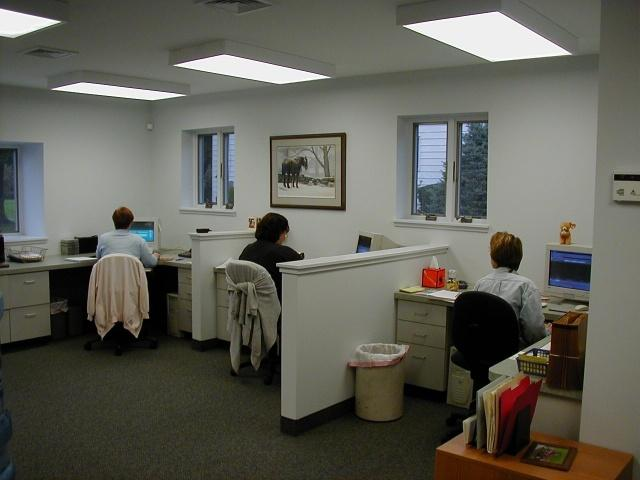Filing Cabinet: (393, 297, 447, 392)
